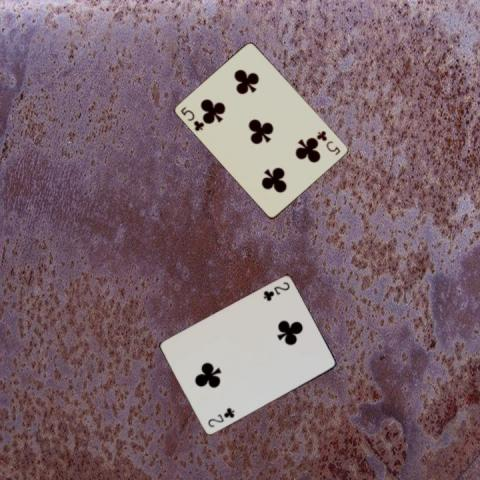2c: (205, 404, 236, 428), (260, 279, 291, 303)
5c: (314, 128, 342, 157), (178, 104, 206, 133)
